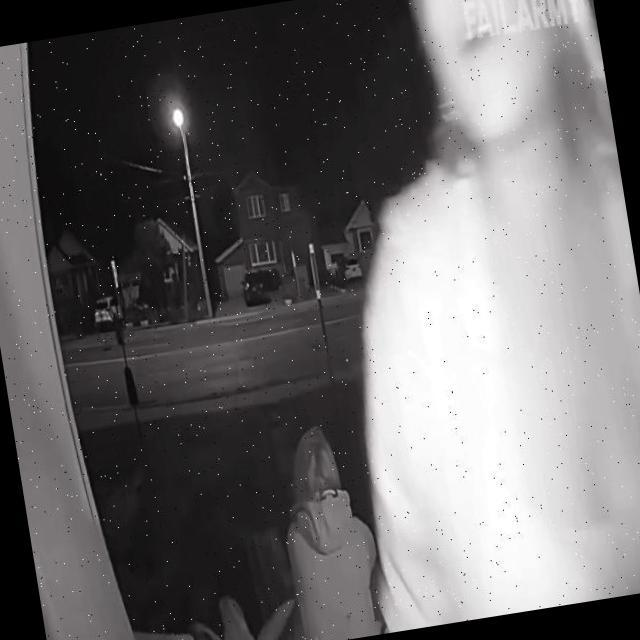person: (295, 0, 640, 632), (274, 424, 390, 640)
